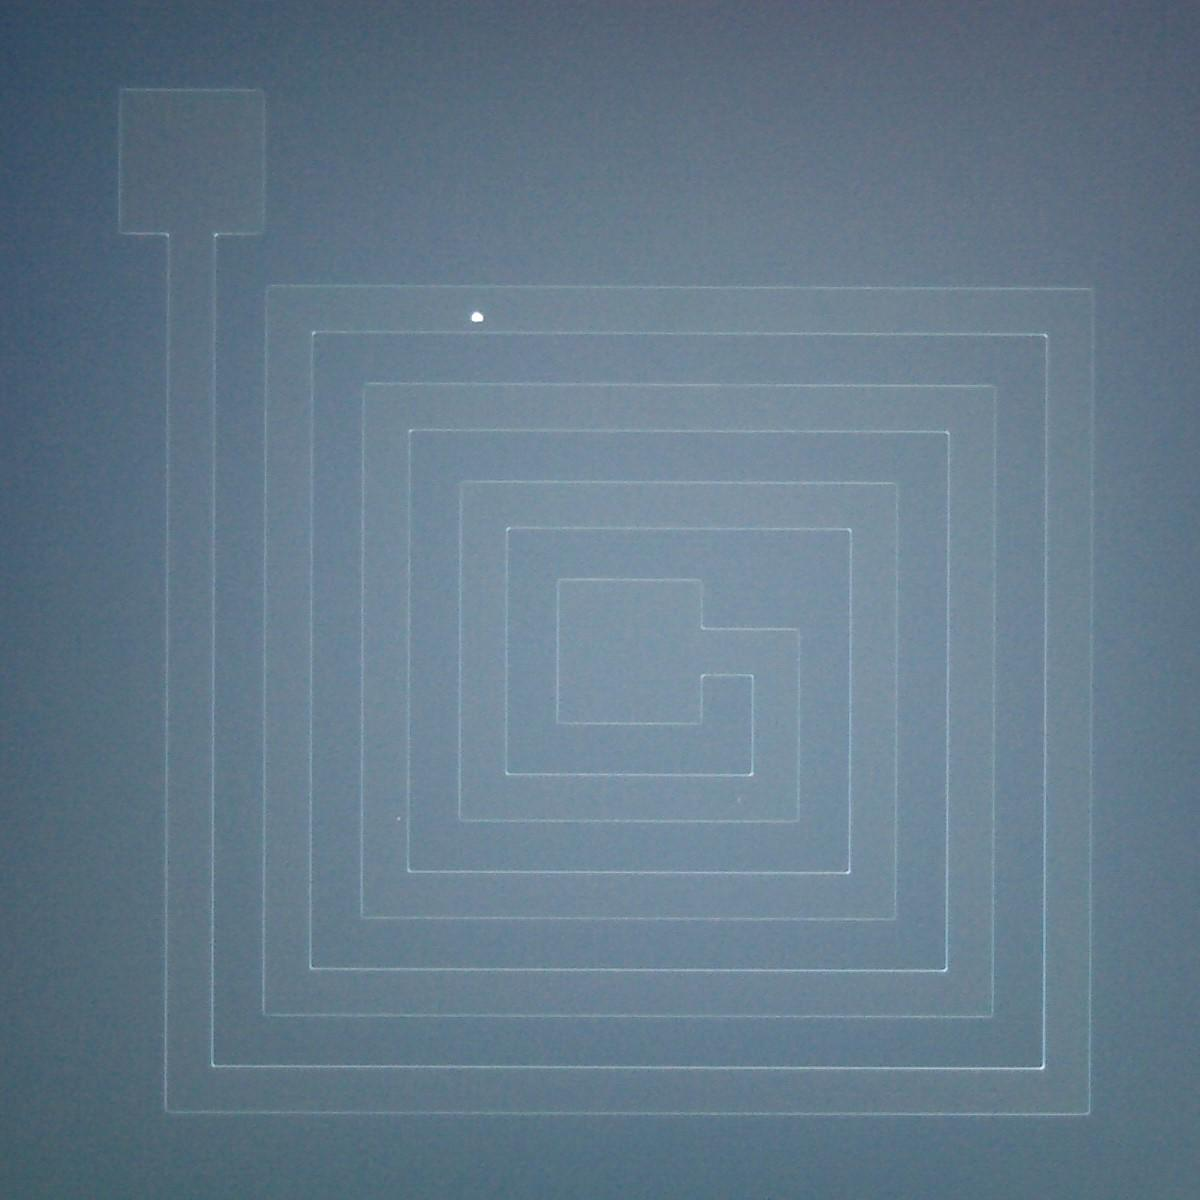B_point: (469, 311, 486, 324)
